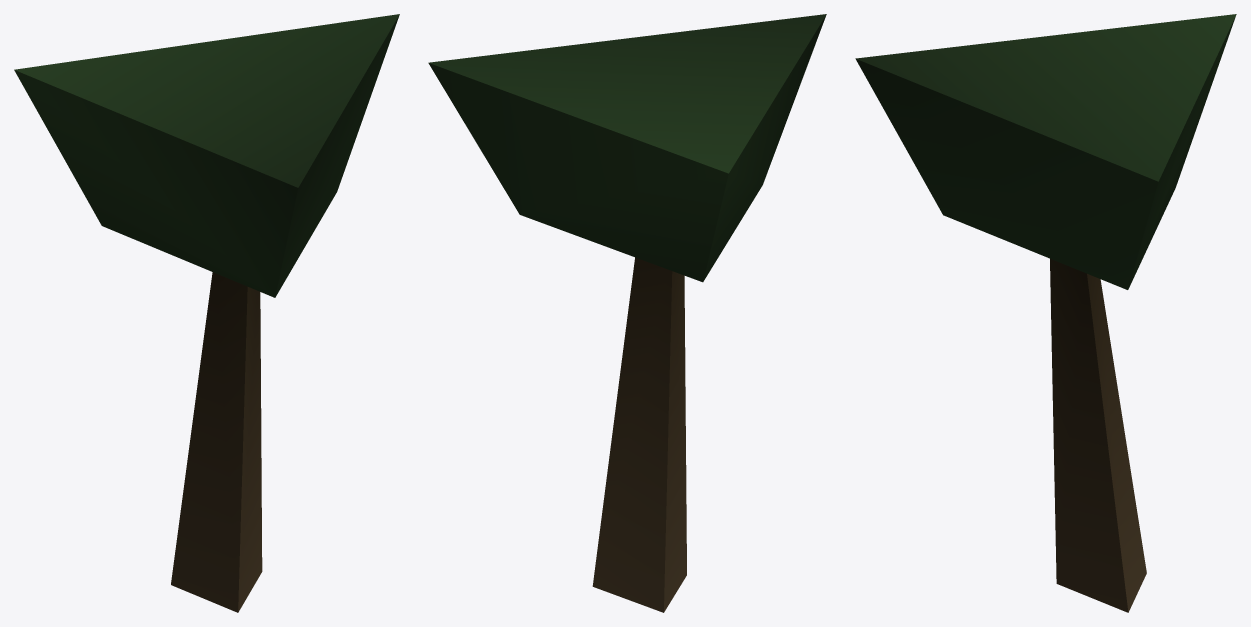
File: fruit-tree-1.dae
3 renders of one model, left to right at view 1: azimuth 30°, elevation 25°; view 2: azimuth 150°, elevation 25°; view 3: azimuth 270°, elevation 25°, orthographic. The views are drawn at different scales.
Visible parts, largest first — view 1: Plane; view 2: Plane; view 3: Plane.
Part boxes in pixels (box(x1,y1,x2,y2)): Plane: box(14, 14, 399, 612); Plane: box(428, 14, 826, 612); Plane: box(855, 14, 1236, 612).
Size of the model in its own units: 5.84 by 5.61 by 8.2.
